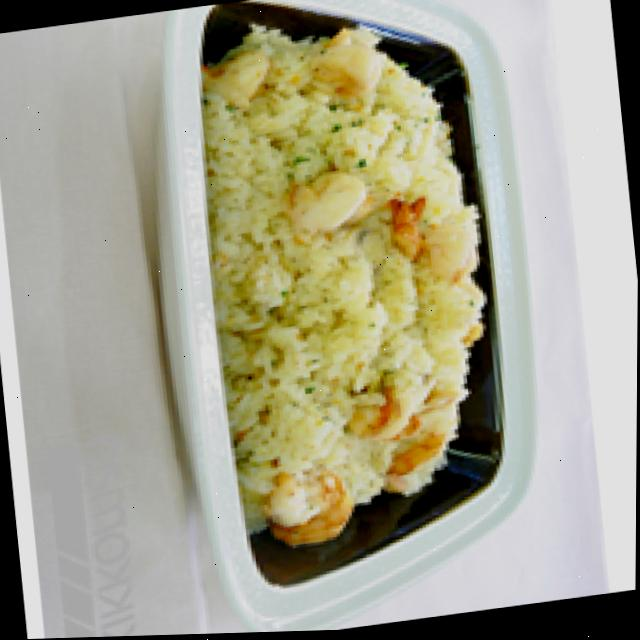米饭主食: (132, 0, 569, 637)
